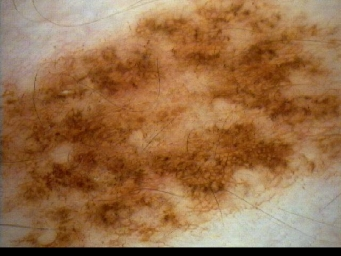melanoma: (1, 2, 341, 248)
